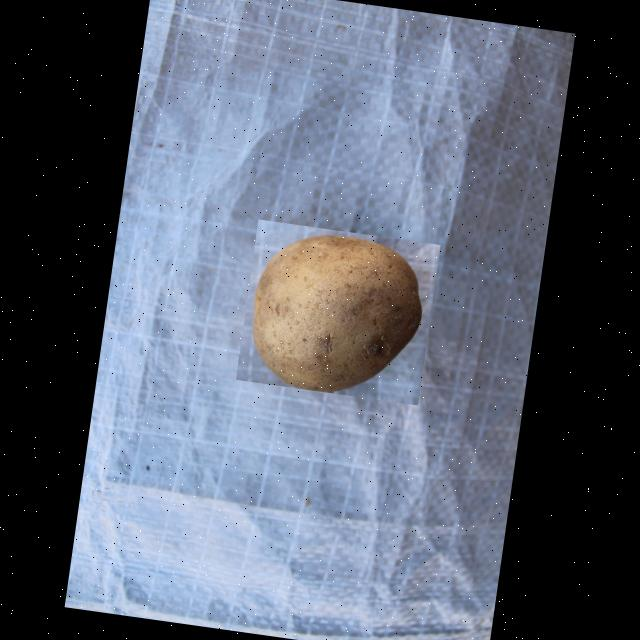Diseased-fungal potato: (236, 218, 441, 404)
